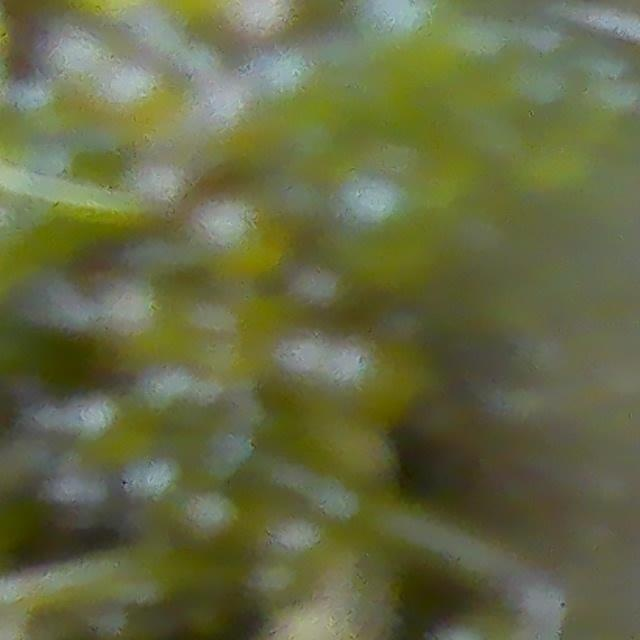SeaGrape: (334, 176, 433, 280), (198, 191, 278, 274), (354, 0, 444, 56), (51, 30, 111, 93)
